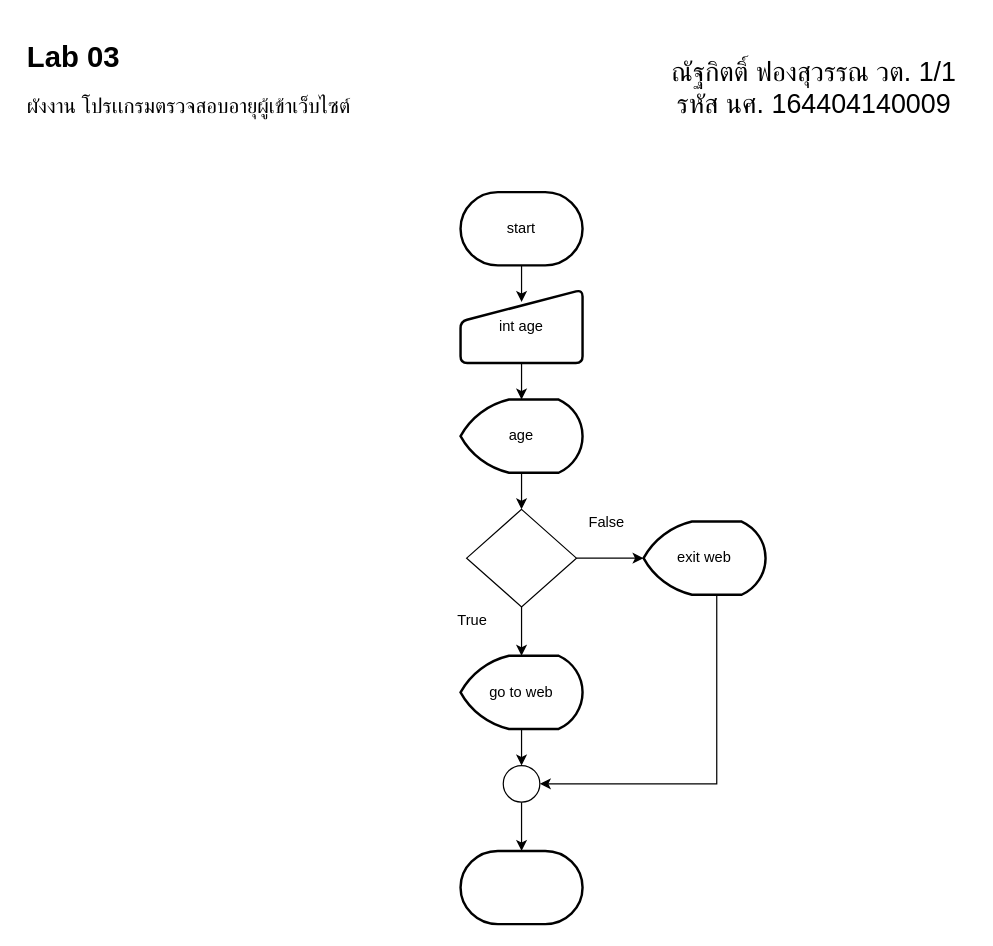
Some shapes in this 993 by 946 pixel diagram are drawn without their labels. Here are the shapes that lost their labels. From the top down, the centre of each, then its label:
At (520,557): "age > = 18".
At (521,887): "end".
